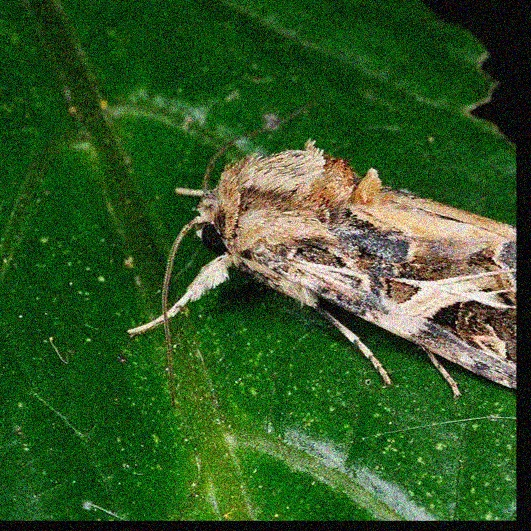Spodoptera litura: (126, 104, 516, 409)
